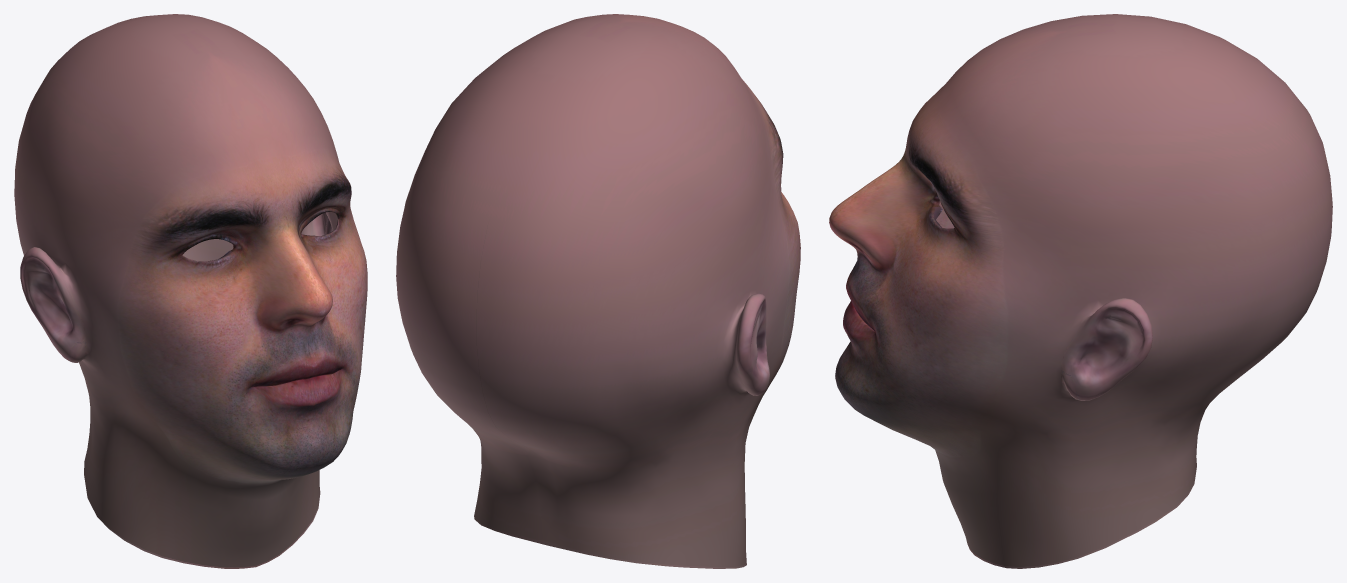
3 views of the same model, side by side, from view 1: azimuth 30°, elevation 25°; view 2: azimuth 150°, elevation 25°; view 3: azimuth 270°, elevation 25° (orthographic). The views are drawn at different scales.
Parts seen in each view (by area): view 1: FaceGen; view 2: FaceGen; view 3: FaceGen.
Part boxes in pixels (bbox=[...]): FaceGen: bbox=[14, 14, 367, 568]; FaceGen: bbox=[396, 14, 800, 568]; FaceGen: bbox=[829, 14, 1332, 568].
Size of the model in its own units: 182 by 278 by 246.
1 material, 1 textured.
